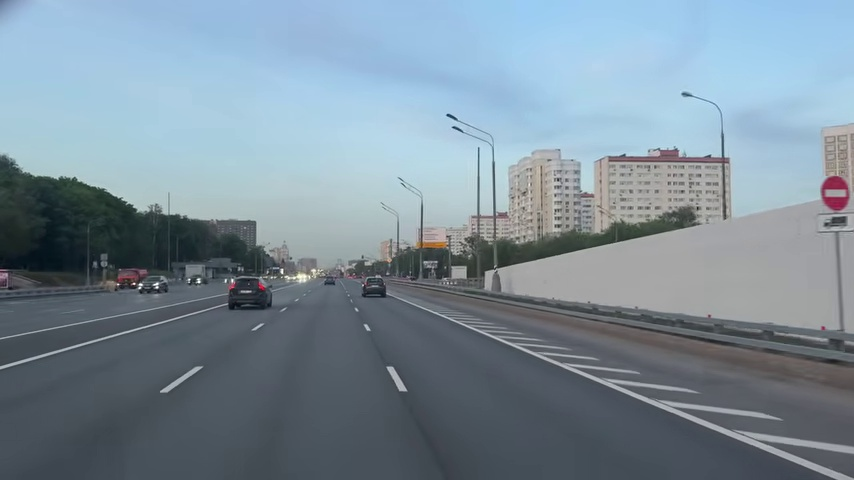apagada: (163, 363, 204, 395), (443, 111, 465, 137), (395, 175, 411, 191), (680, 89, 696, 103)
